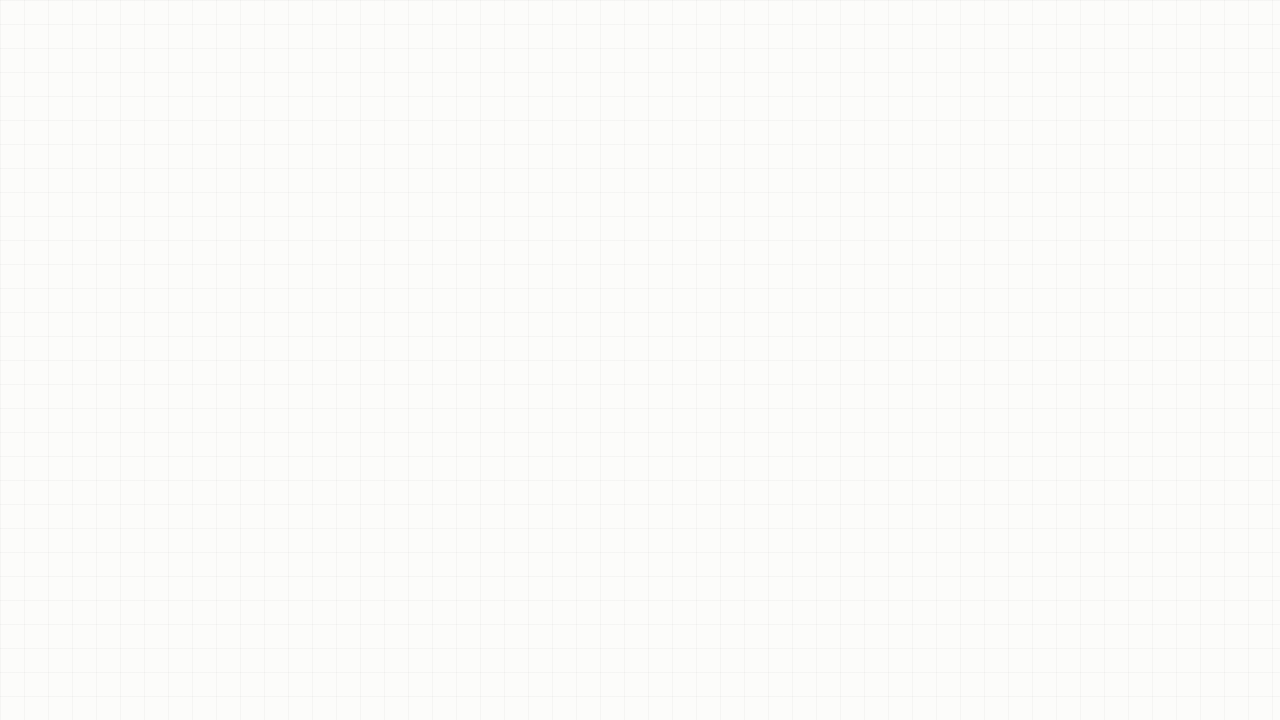
CommandPalette › backdrop click closes the palette
This screenshot has width=1280, height=720.
Step 1. Press k
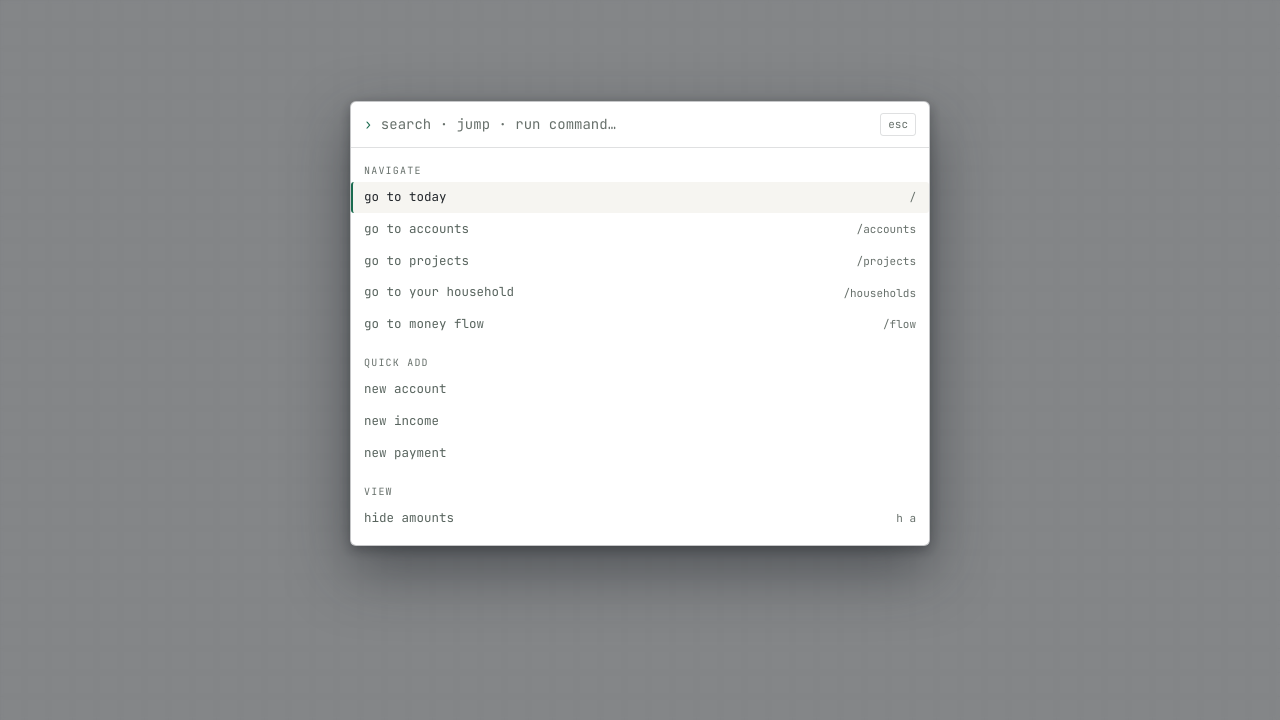
Result: the dialog is shown at x1=350 y1=101 x2=930 y2=546
Step 2. Click the element with test id "palette-backdrop" → click(77, 360), box x1=0 y1=0 x2=1279 y2=719
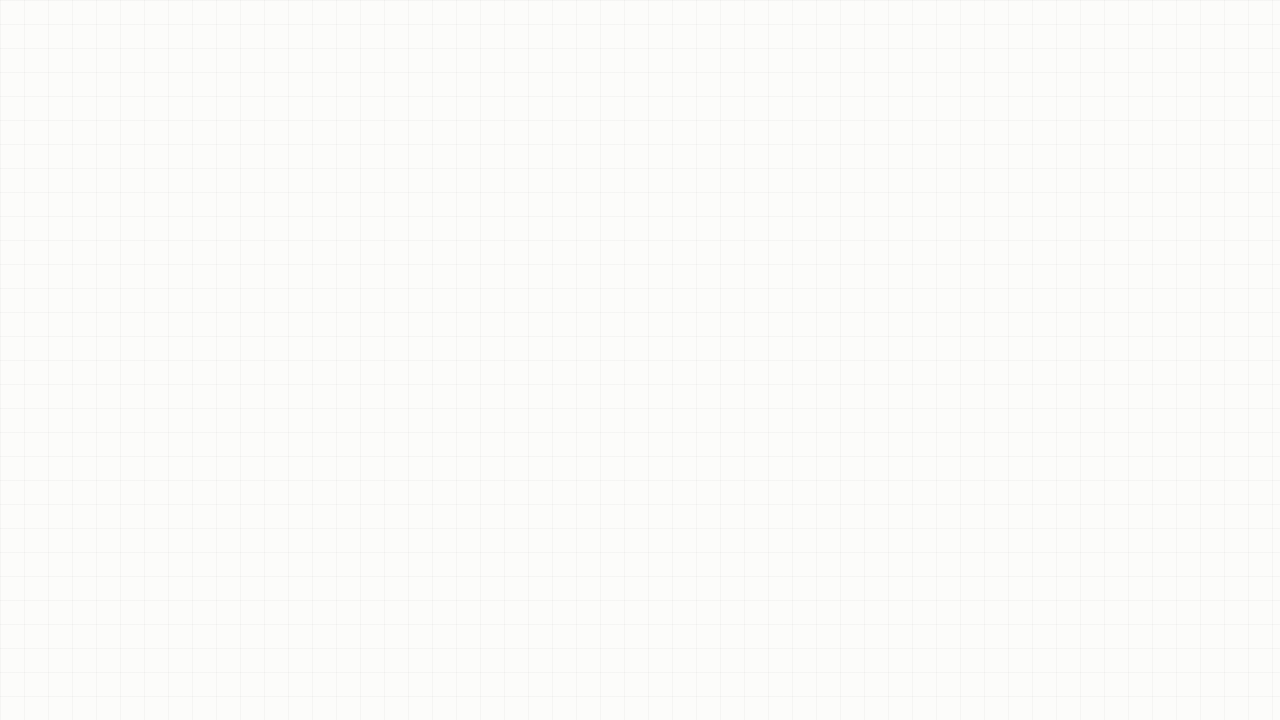
Result: the dialog is gone
